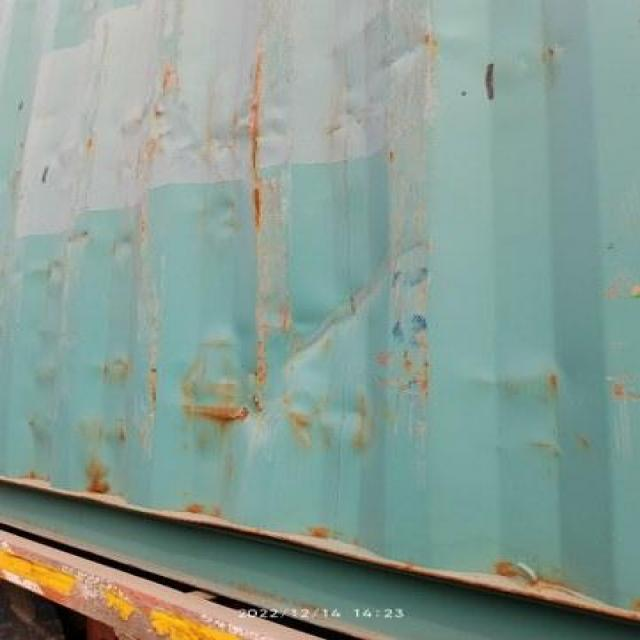Minor-Dent: (139, 76, 485, 175), (199, 335, 408, 441)
